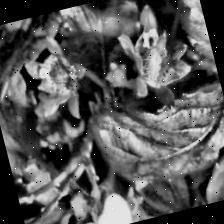Blossom Blight: (132, 34, 172, 86), (40, 51, 78, 99)
